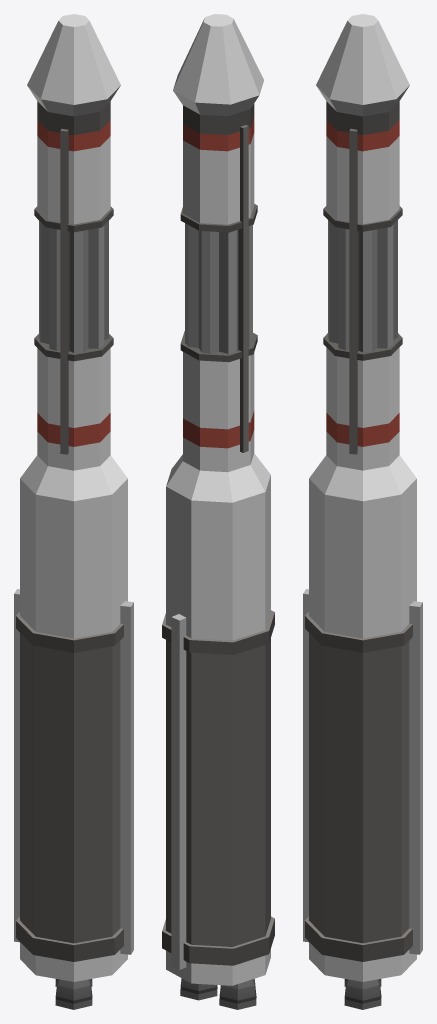
File: SM_Veh_Rocket_19.fbx
The picture shows the model from 3 angles, left to right: view 1: azimuth 90°, elevation 25°; view 2: azimuth 150°, elevation 25°; view 3: azimuth 270°, elevation 25°; orthographic projection.
Parts seen in each view (by area): view 1: SM_Veh_Rocket_19; view 2: SM_Veh_Rocket_19; view 3: SM_Veh_Rocket_19.
Part boxes in pixels (bbox=[...]): SM_Veh_Rocket_19: bbox=[14, 14, 133, 1009]; SM_Veh_Rocket_19: bbox=[162, 14, 274, 1009]; SM_Veh_Rocket_19: bbox=[303, 14, 422, 1009].
Bounding box in the file's own units: 2.13 × 19.63 × 2.2.
